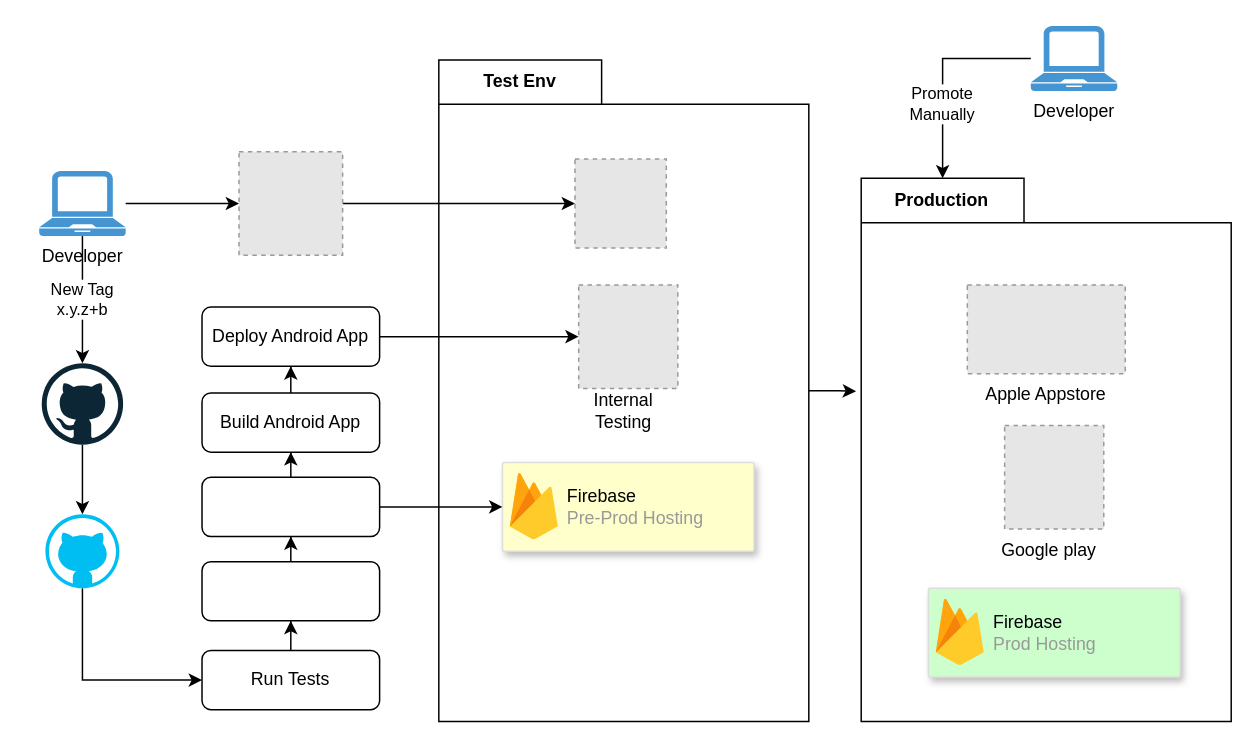
Image size: 1258x747. Some labels were removed from this diagram. Grey dashed boxes stand in for pictures. The shapes that lost their labels are listed below. From the top down, each one's centre as x and y in pixels, then its label:
At point (81, 403): "Code base".
At point (290, 506): "Deploy Web App".
At point (82, 551): "Github Actions".
At point (290, 590): "Build Web App".
